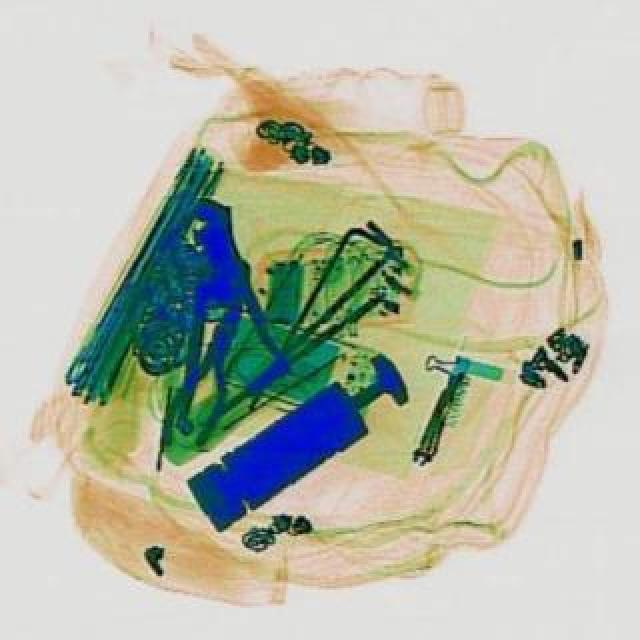wrench: (142, 188, 296, 434), (160, 294, 260, 446)
